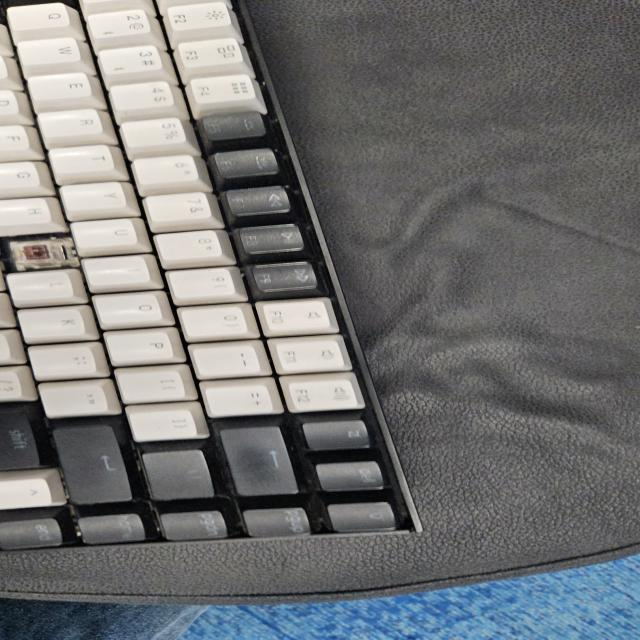C: (10, 241, 62, 263)
